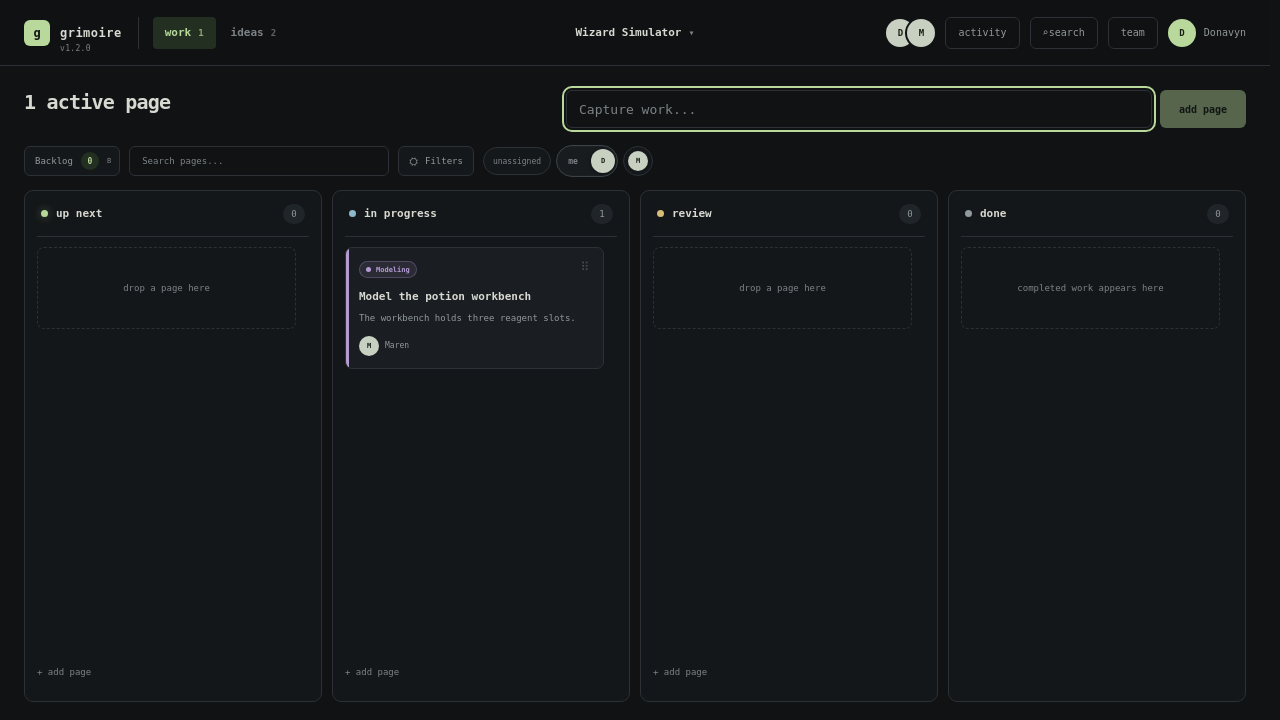
Test: copying a page's link › copies the deep link alone, with no filters and nothing from the brief
This screenshot has width=1280, height=720.
Click the text "Model the potion workbench".
click(445, 296)  # box [359, 290, 531, 303]
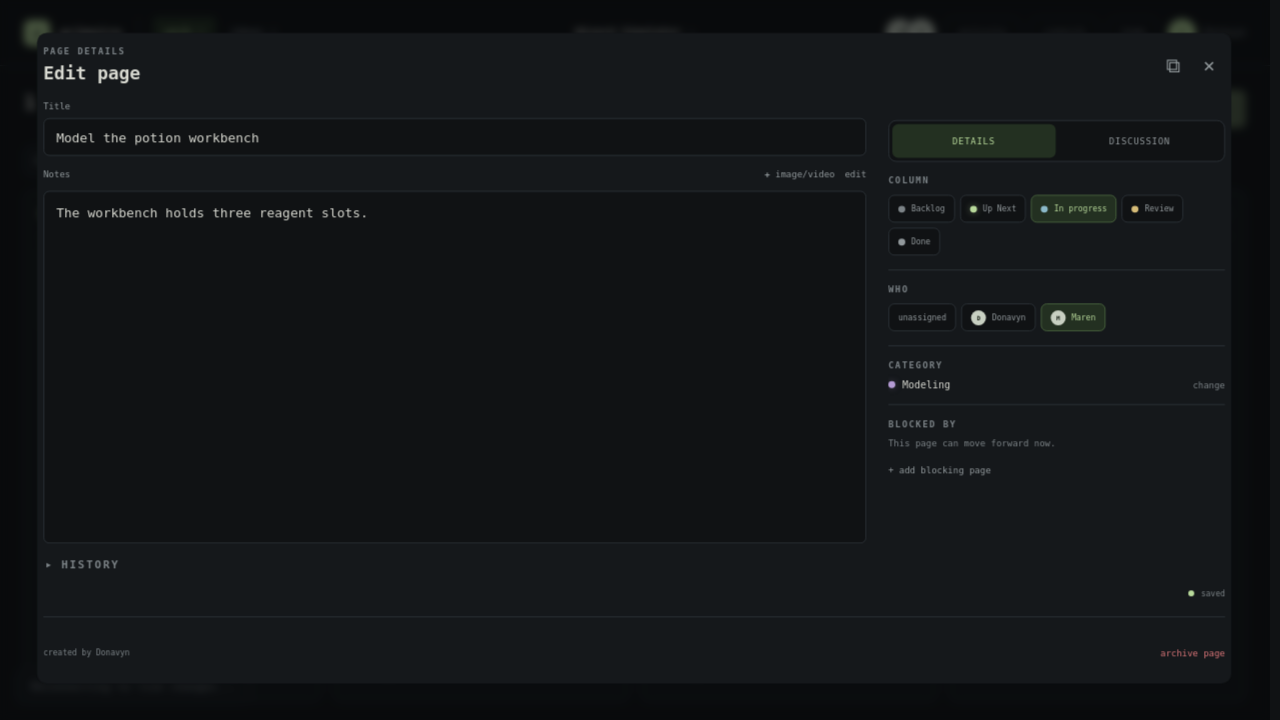
Check: the dialog "Edit page" is shown
Click the button named "Copy link".
click(1181, 66)  # box [1165, 50, 1197, 82]
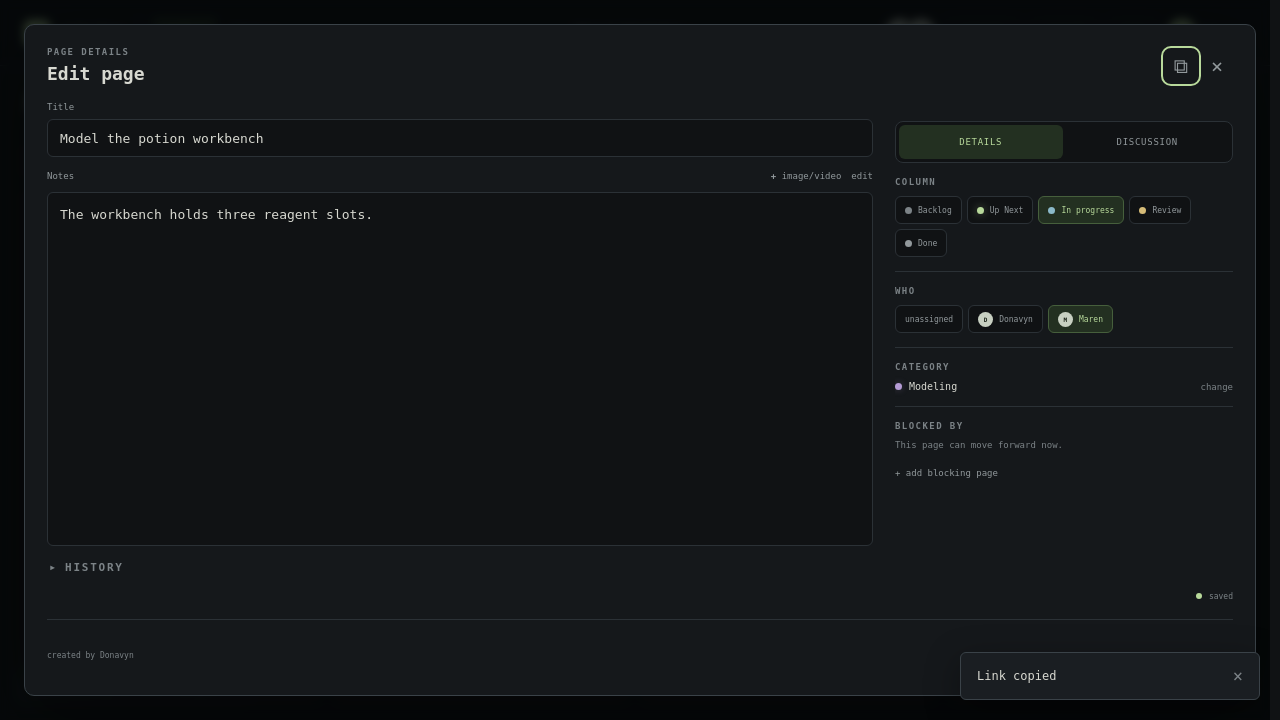
Check: the text "Link copied" is shown, box [977, 669, 1056, 683]
